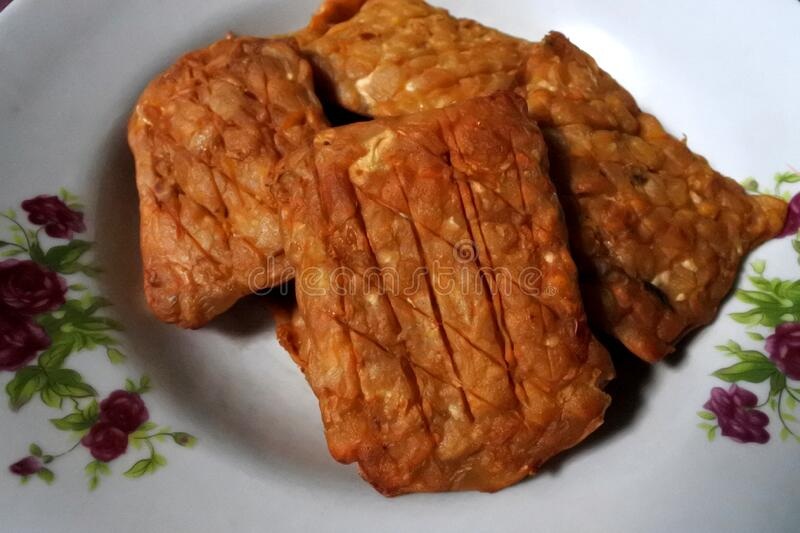Tempe: (297, 104, 575, 477), (502, 25, 765, 354), (112, 16, 307, 297)
